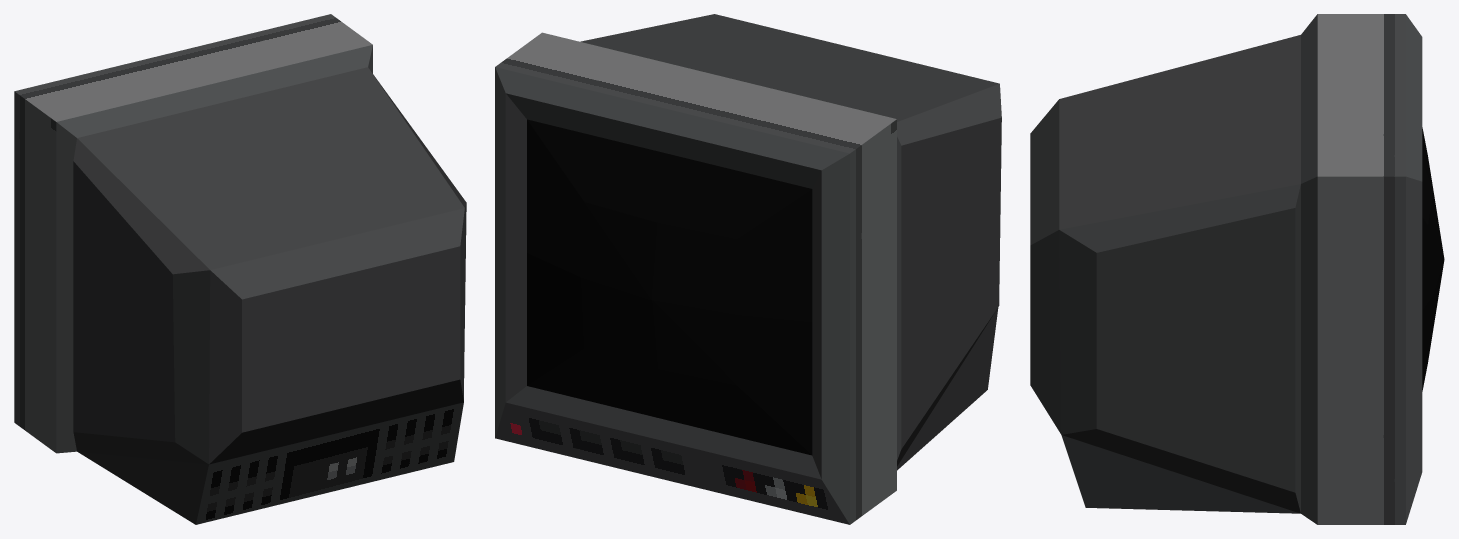
The model's file is video_settings_model.gltf.
The picture shows the model from 3 angles, left to right: view 1: azimuth 30°, elevation 25°; view 2: azimuth 150°, elevation 25°; view 3: azimuth 270°, elevation 25°; orthographic projection. The views are drawn at different scales.
Parts seen in each view (by area): view 1: tv; view 2: tv; view 3: tv.
Boxes of the visible parts, x1,y1,x2,y2 form: tv: (14,14,466,524); tv: (495,14,1001,524); tv: (1030,14,1444,524).
Size of the model in its own units: 1.09 by 1.09 by 1.17.
Materials: 1 (1 with a texture image).
